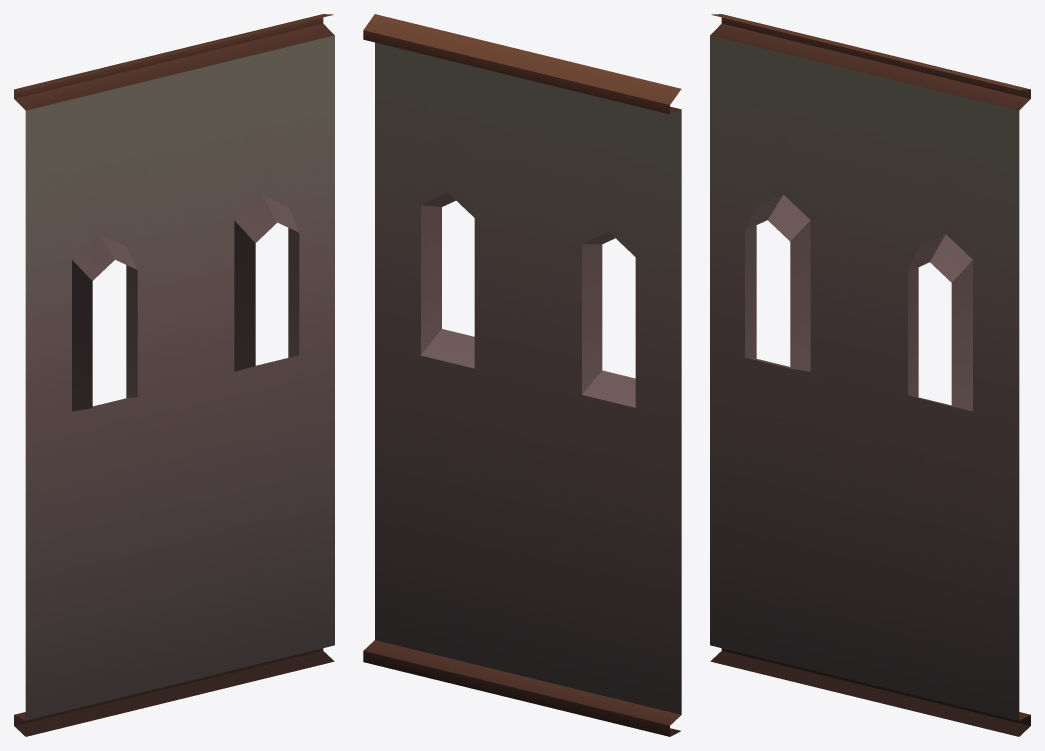
The model's file is SM_Env_InnerWall_01.fbx.
The picture shows the model from 3 angles, left to right: view 1: azimuth 30°, elevation 25°; view 2: azimuth 150°, elevation 25°; view 3: azimuth 330°, elevation 25°; orthographic projection.
Visible parts, largest first — view 1: SM_Env_InnerWall_01; view 2: SM_Env_InnerWall_01; view 3: SM_Env_InnerWall_01.
Part boxes in pixels (x1=…): SM_Env_InnerWall_01: x1=14, y1=14, x2=334, y2=736; SM_Env_InnerWall_01: x1=363, y1=14, x2=681, y2=736; SM_Env_InnerWall_01: x1=710, y1=14, x2=1030, y2=736.
Size of the model in its own units: 1200 by 2400 by 185.
